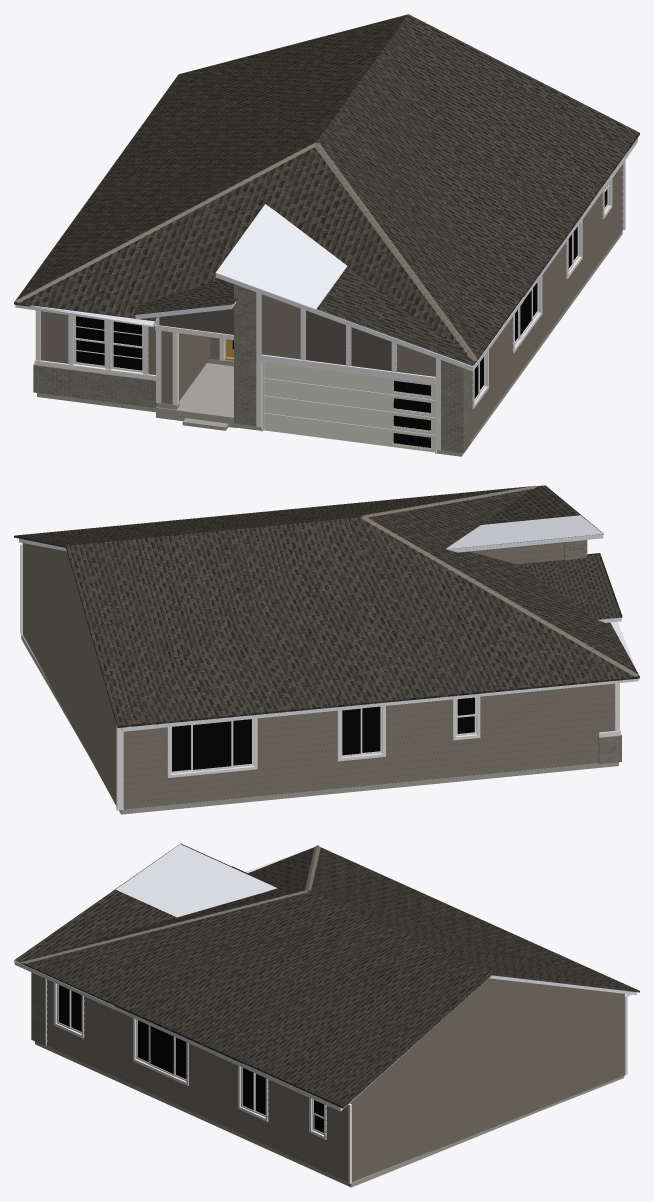
The model's file is KBhomes_1989_elevation_contemporary.glb.
3 renders of one model, top to bottom at view 1: azimuth 30°, elevation 25°; view 2: azimuth 150°, elevation 25°; view 3: azimuth 270°, elevation 25°, orthographic. The views are drawn at different scales.
Visible parts, largest first — view 1: Plane.004; view 2: Plane.004; view 3: Plane.004.
Part boxes in pixels (x1=…): Plane.004: x1=14, y1=14, x2=639, y2=456; Plane.004: x1=14, y1=485, x2=639, y2=814; Plane.004: x1=14, y1=843, x2=639, y2=1187.
Bounding box in the file's own units: 20.42 × 5.84 × 20.52.
12 materials, 5 textured.
